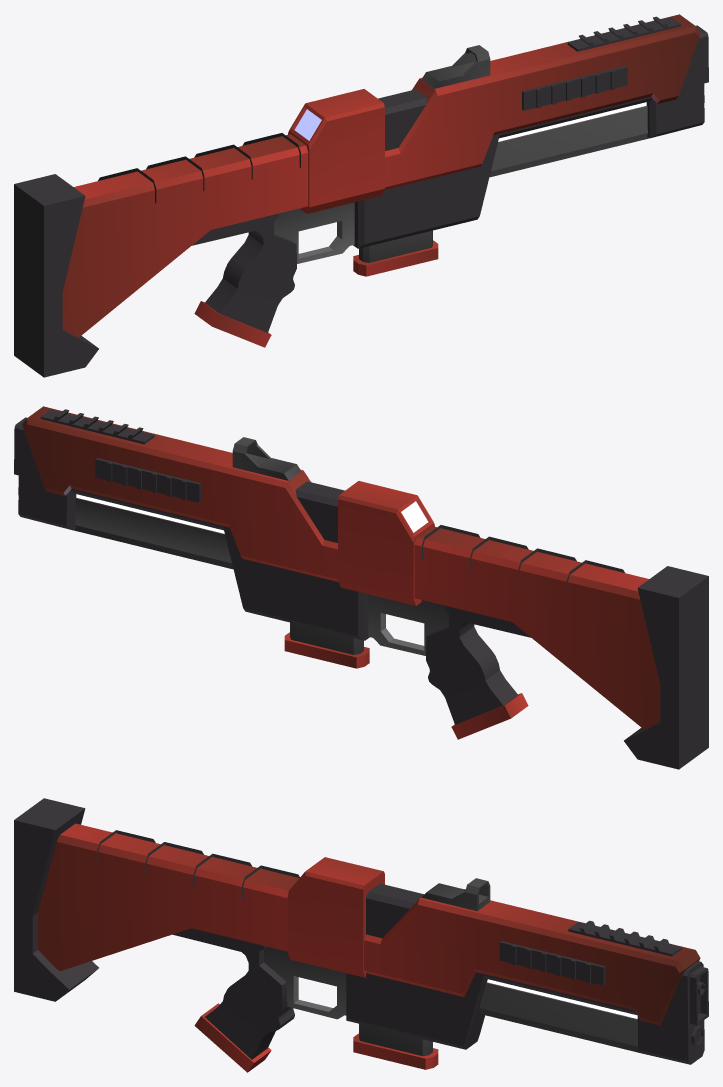
Rendered from rifle1.glb.
3 views of the same model, one above another, from view 1: azimuth 30°, elevation 25°; view 2: azimuth 150°, elevation 25°; view 3: azimuth 330°, elevation 25° (orthographic).
Visible parts, largest first — view 1: stock, body3, body2, plastic_dark, body1, handle, glow, trig_guard, mag, rail_side1, sight, rail_top (+1 smaller); view 2: stock, body3, body2, plastic_dark, body1, handle, glow, trig_guard, mag, rail_side2, sight, rail_top (+1 smaller); view 3: stock, body3, body2, body1, plastic_dark, handle, glow, trig_guard, mag, rail_side1, rail_top, sight (+1 smaller).
Boxes of the visible parts, x1,y1,x2,y2 form: stock: (62, 134, 308, 337); body3: (384, 14, 700, 189); body2: (353, 25, 708, 248); plastic_dark: (14, 174, 98, 377); body1: (288, 89, 384, 213); handle: (192, 213, 296, 347); glow: (489, 102, 649, 177); trig_guard: (274, 202, 354, 263); mag: (353, 230, 438, 276); rail_side1: (522, 66, 627, 110); sight: (421, 45, 490, 88); rail_top: (567, 16, 681, 51); stock: (414, 526, 660, 729); body3: (22, 406, 338, 581); body2: (14, 417, 369, 640); plastic_dark: (624, 566, 708, 769); body1: (338, 481, 434, 605); handle: (426, 605, 530, 739); glow: (73, 494, 233, 569); trig_guard: (368, 594, 448, 655); mag: (284, 622, 369, 668); rail_side2: (95, 458, 200, 502); sight: (232, 437, 301, 480); rail_top: (40, 409, 154, 444); stock: (38, 823, 299, 971); body3: (364, 897, 700, 1025); body2: (346, 883, 708, 1064); body1: (287, 857, 384, 977); plastic_dark: (14, 798, 98, 1001); handle: (173, 928, 294, 1072); glow: (478, 979, 638, 1052); trig_guard: (264, 947, 346, 1019); mag: (353, 1024, 438, 1069); rail_side1: (499, 941, 605, 985); rail_top: (568, 920, 682, 956); sight: (421, 878, 490, 911).
Size of the model in its own units: 3.52 by 1.19 by 0.2714.
4 materials, 1 textured.
